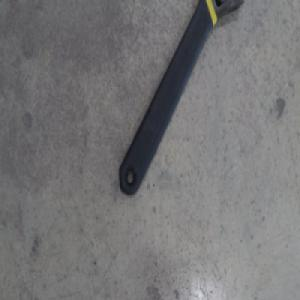AdjustableWrench: (117, 0, 230, 195)
